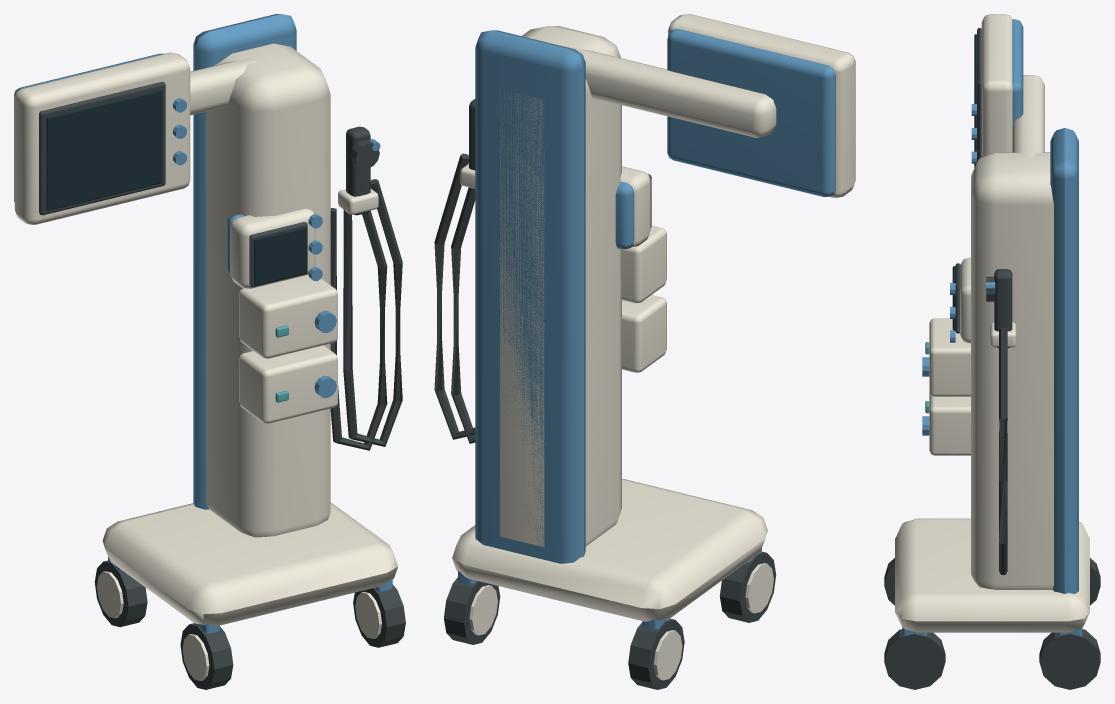
The model's file is endoscopy_tower_advanced.glb.
The picture shows the model from 3 angles, left to right: view 1: azimuth 30°, elevation 25°; view 2: azimuth 150°, elevation 25°; view 3: azimuth 270°, elevation 25°; orthographic projection. The views are drawn at different scales.
Visible parts, largest first — view 1: STATIC_endoscopy_tower_advanced; view 2: STATIC_endoscopy_tower_advanced; view 3: STATIC_endoscopy_tower_advanced.
Part boxes in pixels (bbox=[...]): STATIC_endoscopy_tower_advanced: bbox=[14, 14, 405, 689]; STATIC_endoscopy_tower_advanced: bbox=[434, 14, 855, 689]; STATIC_endoscopy_tower_advanced: bbox=[884, 14, 1100, 689].
Size of the model in its own units: 1.12 by 1.64 by 0.6.
